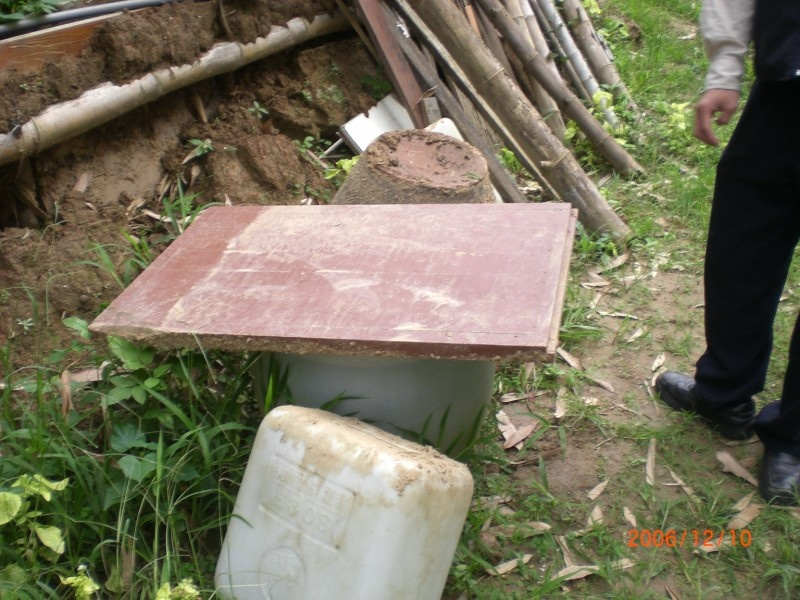bucket: (211, 403, 476, 600)
